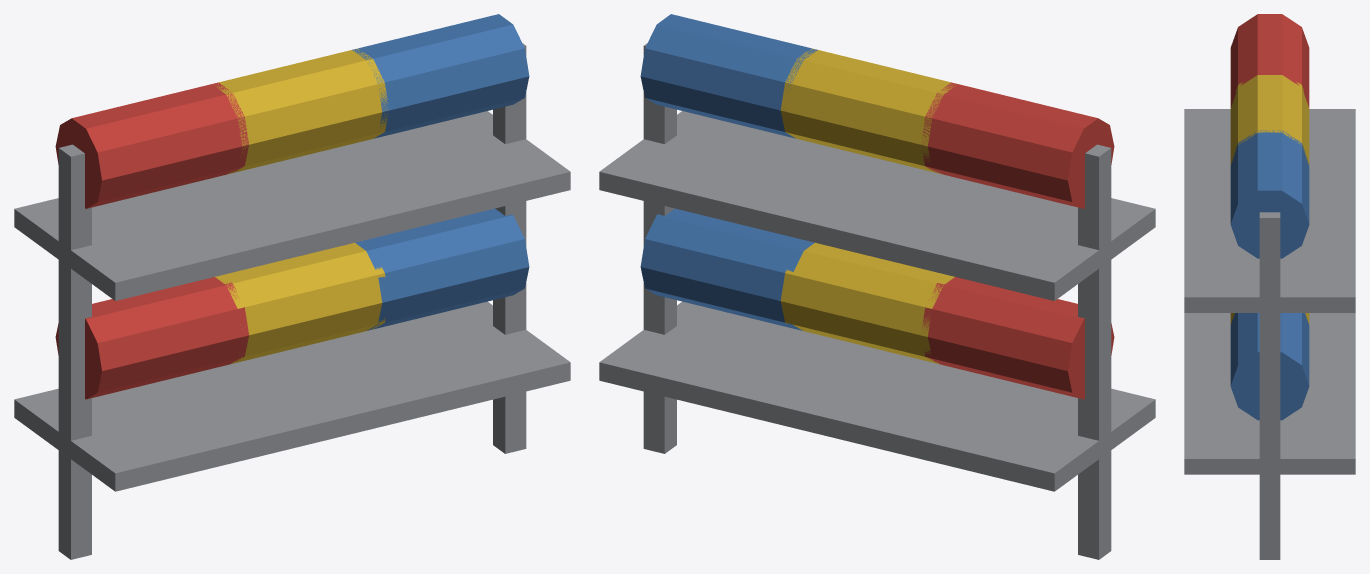
The model's file is barrel_rack.glb.
3 views of the same model, side by side, from view 1: azimuth 30°, elevation 25°; view 2: azimuth 150°, elevation 25°; view 3: azimuth 270°, elevation 25° (orthographic). The views are drawn at different scales.
Visible parts, largest first — view 1: barrel_rack; view 2: barrel_rack; view 3: barrel_rack.
Part boxes in pixels (x1,y1,x2,y2): barrel_rack: (14,14,570,559); barrel_rack: (599,14,1155,559); barrel_rack: (1184,14,1355,559).
Bounding box in the file's own units: 1.3 × 1.17 × 0.5.
